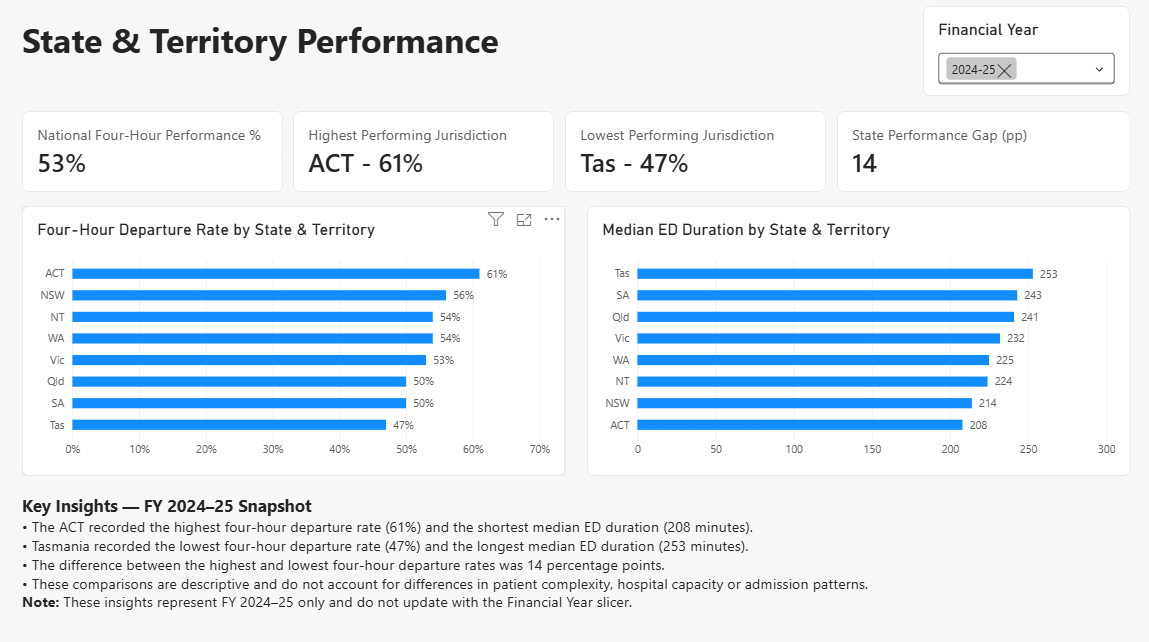

What the dashboard file says about the page in this screenshot:
{"tool":"powerbi","page":{"name":"State & Territory Performance.","canvas":[1280,720],"ordinal":2},"visuals":[{"type":"textbox","box":[24,20,850,55],"z":0},{"type":"listSlicer","fields":{"Values":["Dim_FinancialYear.Financial Year"]},"box":[1026,8,230,100],"z":1000},{"type":"cardVisual","fields":{"Data":["ED_FourHour.National Four-Hour Performance %"]},"box":[24,124,290,90],"z":2000},{"type":"cardVisual","fields":{"Data":["ED_FourHour.Highest Performing Jurisdiction"]},"box":[326,124,290,90],"z":4000},{"type":"cardVisual","fields":{"Data":["ED_FourHour.Lowest Performing Jurisdiction"]},"box":[628,124,290,90],"z":5000},{"type":"cardVisual","fields":{"Data":["ED_FourHour.State Performance Gap (pp)"]},"box":[930,124,326,90],"z":6000},{"type":"clusteredBarChart","title":"Four-Hour Departure Rate by State & Territory","fields":{"Category":["ED_FourHour.state"],"Y":["ED_FourHour.State Four-Hour Performance %"]},"box":[24,230,604,300],"z":7000},{"type":"clusteredBarChart","title":"Median ED Duration by State & Territory","fields":{"Category":["ED_Duration.state"],"Y":["ED_Duration.State Median ED Duration (Minutes)"]},"box":[652,230,604,300],"z":7001},{"type":"textbox","box":[24,550,1232,145],"z":7002}]}

Visuals, with their boxes in screenshot pixels (x1, y1, x2, y2), scaled from the page's 1280x720 canvas onto the 1149x642 screenshot:
textbox: left=22, top=18, right=785, bottom=67
listSlicer - Dim_FinancialYear.Financial Year: left=921, top=7, right=1127, bottom=96
cardVisual - ED_FourHour.National Four-Hour Performance %: left=22, top=111, right=282, bottom=191
cardVisual - ED_FourHour.Highest Performing Jurisdiction: left=293, top=111, right=553, bottom=191
cardVisual - ED_FourHour.Lowest Performing Jurisdiction: left=564, top=111, right=824, bottom=191
cardVisual - ED_FourHour.State Performance Gap (pp): left=835, top=111, right=1127, bottom=191
"Four-Hour Departure Rate by State & Territory" clusteredBarChart: left=22, top=205, right=564, bottom=473
"Median ED Duration by State & Territory" clusteredBarChart: left=585, top=205, right=1127, bottom=473
textbox: left=22, top=490, right=1127, bottom=620
